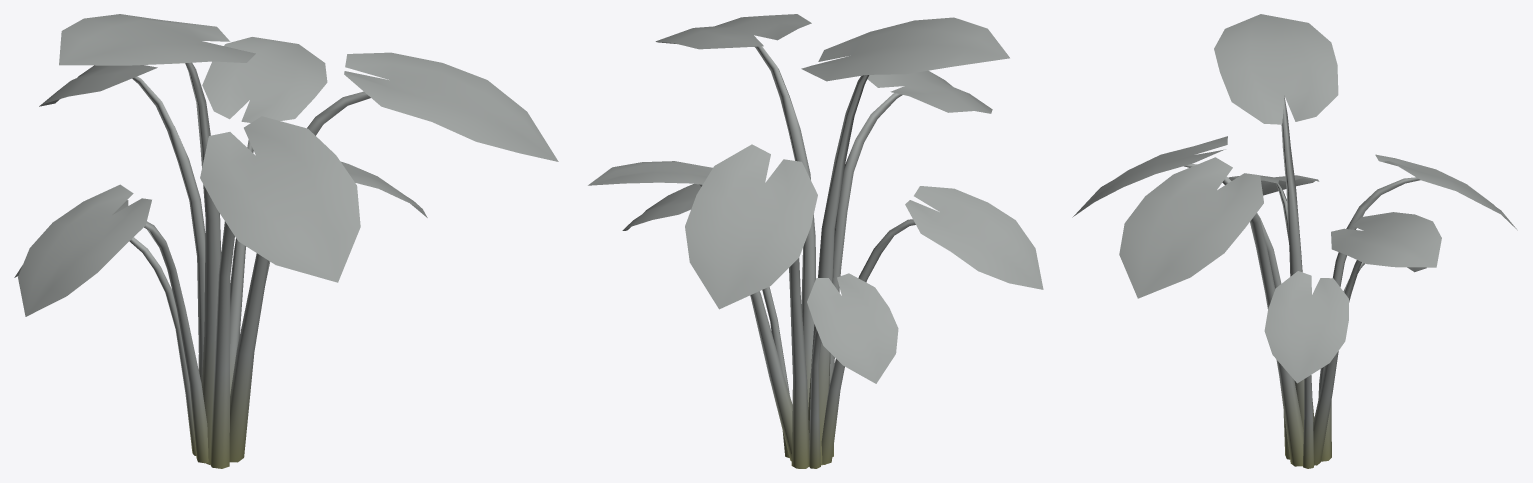
3 renders of one model, left to right at view 1: azimuth 30°, elevation 25°; view 2: azimuth 150°, elevation 25°; view 3: azimuth 270°, elevation 25°, orthographic. The views are drawn at different scales.
Visible parts, largest first — view 1: G:\FFXIV-MapTools\exports\n4t2\bg\ex3\01_nvt_n4\twn\n4t2\bgp; view 2: G:\FFXIV-MapTools\exports\n4t2\bg\ex3\01_nvt_n4\twn\n4t2\bgp; view 3: G:\FFXIV-MapTools\exports\n4t2\bg\ex3\01_nvt_n4\twn\n4t2\bgp.
Boxes of the visible parts, left/top/right/bottom form: G:\FFXIV-MapTools\exports\n4t2\bg\ex3\01_nvt_n4\twn\n4t2\bgp: left=14, top=14, right=558, bottom=468; G:\FFXIV-MapTools\exports\n4t2\bg\ex3\01_nvt_n4\twn\n4t2\bgp: left=588, top=14, right=1043, bottom=468; G:\FFXIV-MapTools\exports\n4t2\bg\ex3\01_nvt_n4\twn\n4t2\bgp: left=1072, top=14, right=1517, bottom=468.
Size of the model in its own units: 5.92 by 5.75 by 6.15.
